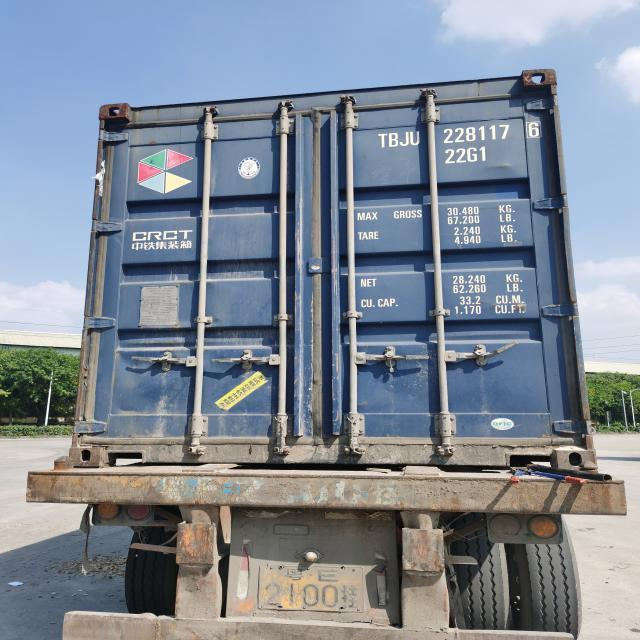ISO: (446, 146, 488, 164)
container_number: (374, 122, 540, 143)
